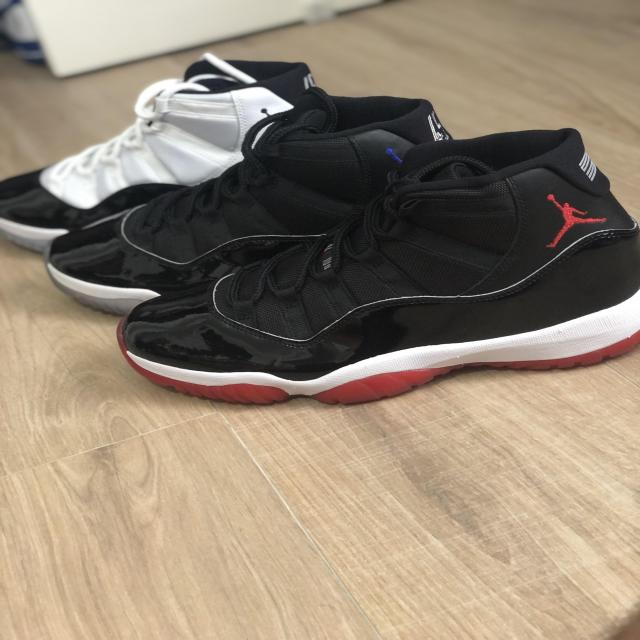shoe: (109, 114, 640, 413), (39, 80, 478, 336), (0, 46, 342, 249)
